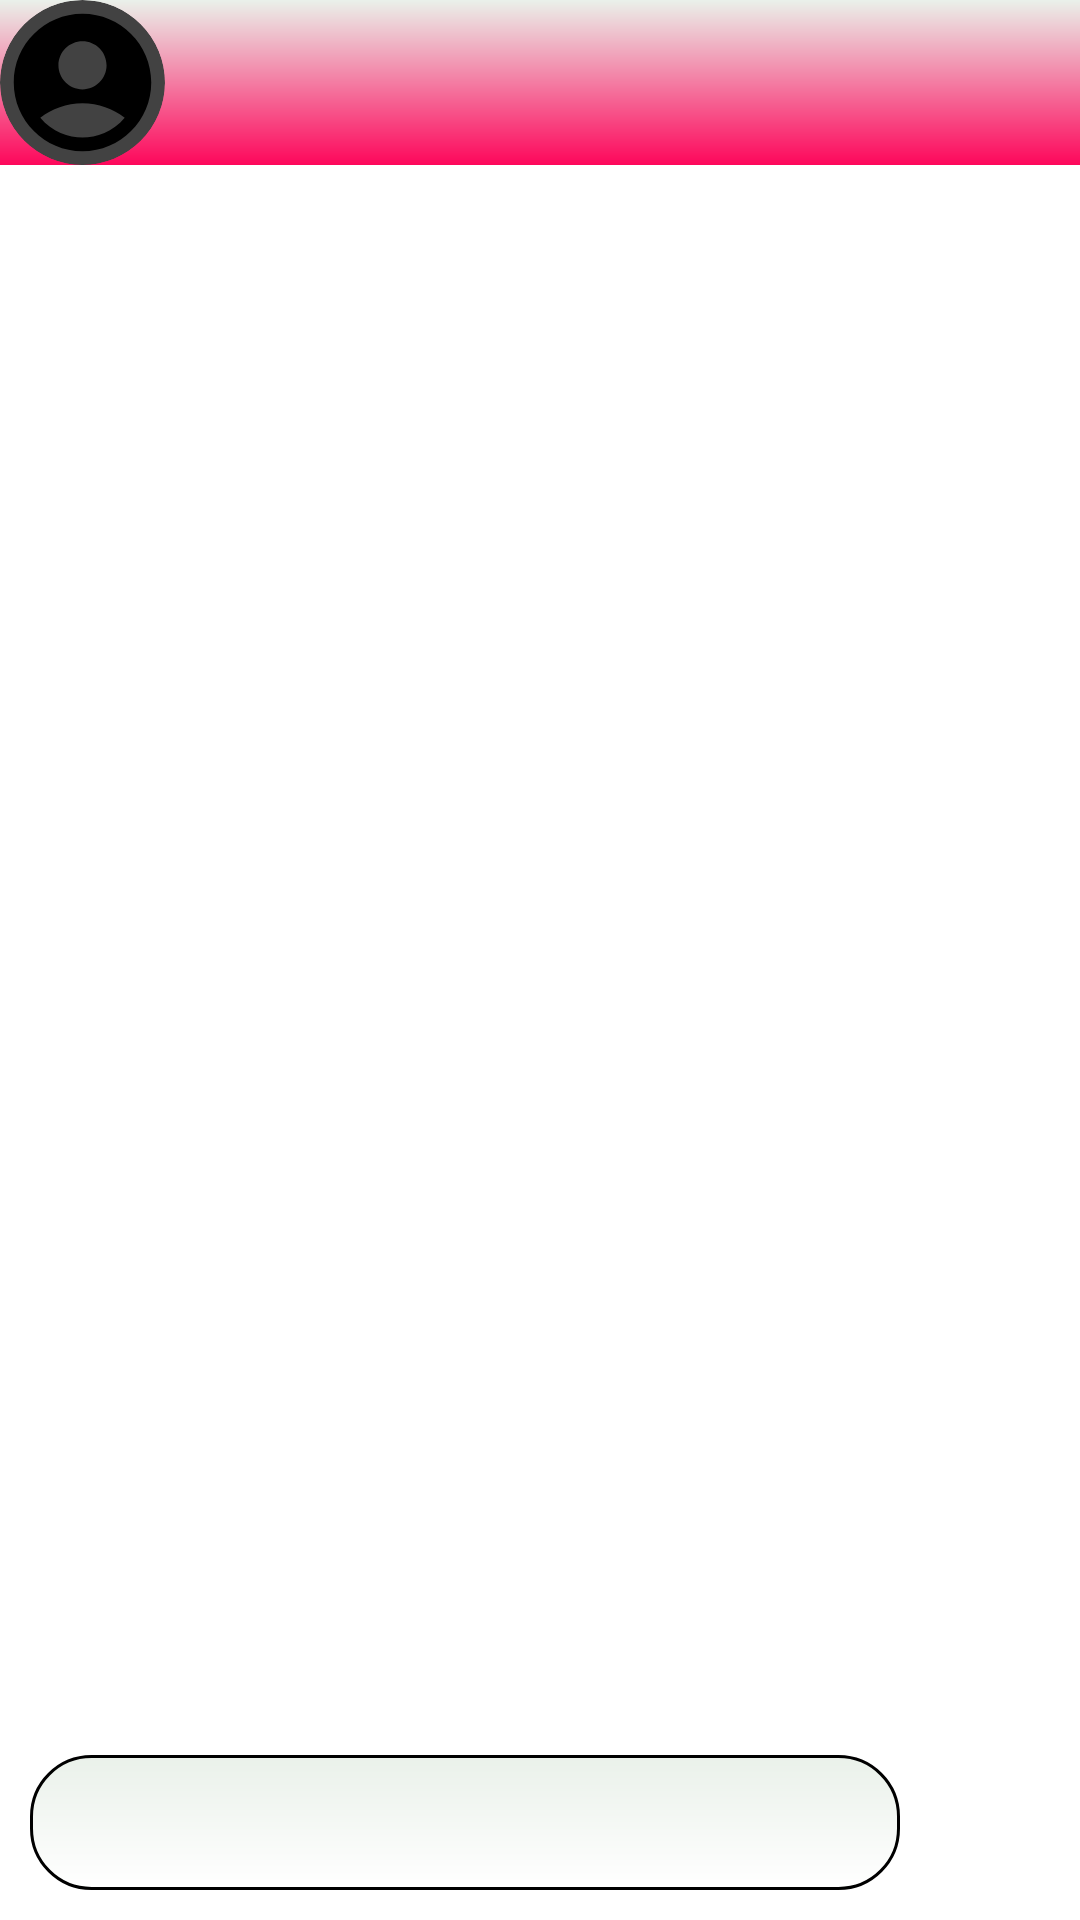

Screen size 1080 x 1920. Icon name, then its center in pixels as point (x, y):
account person: point (82, 82)
